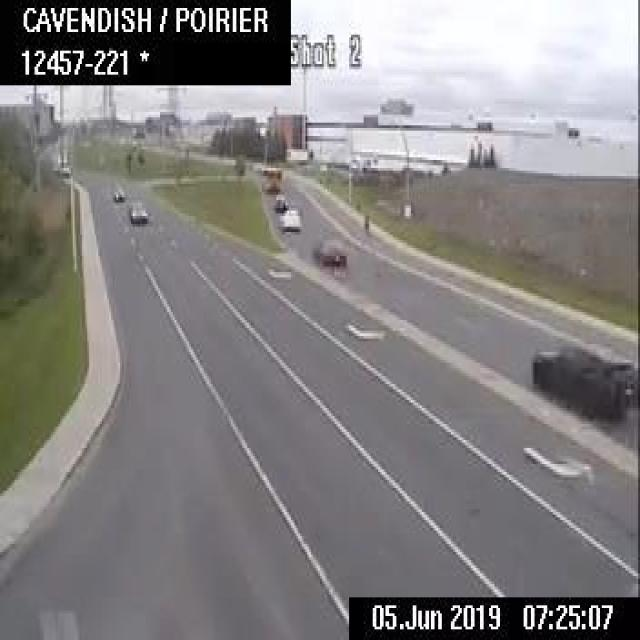cyclist: (361, 210, 368, 234)
vehicle: (531, 335, 638, 420), (317, 237, 347, 267), (260, 166, 280, 190), (280, 206, 300, 228), (129, 201, 146, 221), (273, 192, 286, 210), (111, 185, 125, 200)
